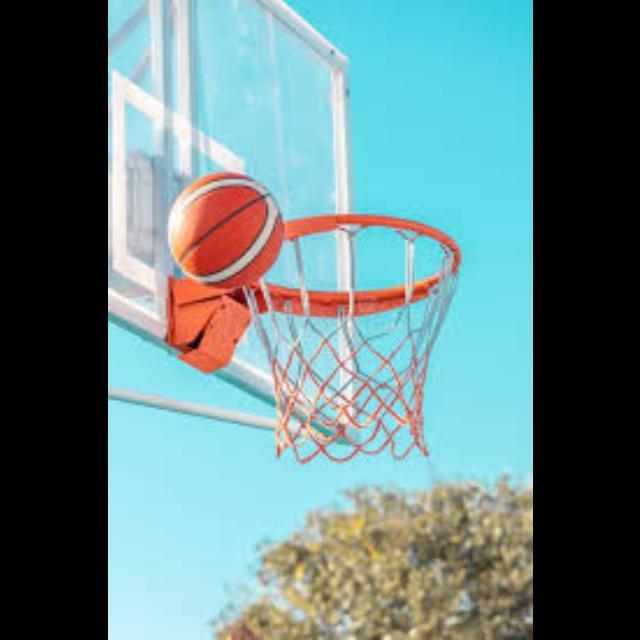basketball: (168, 172, 282, 286)
rim: (250, 215, 460, 459)
